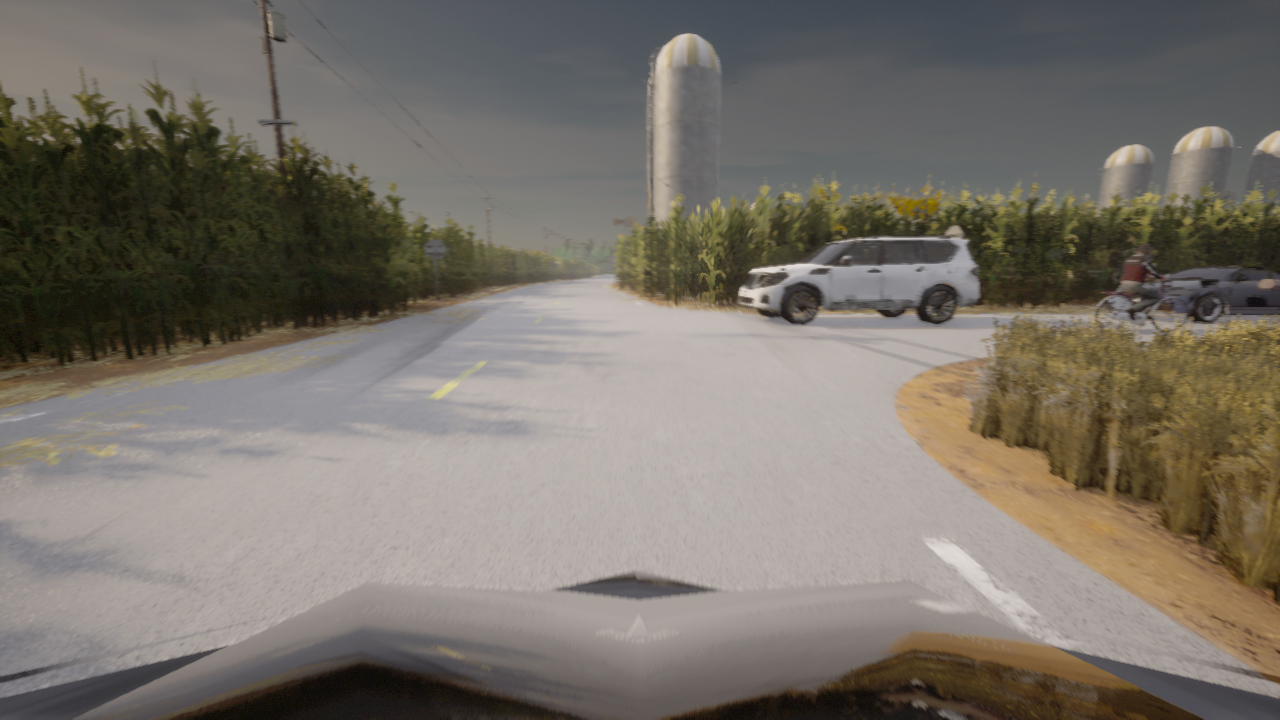cyclist: (0, 569, 1279, 719), (739, 235, 978, 324), (1107, 266, 1279, 322), (1095, 276, 1188, 331)
